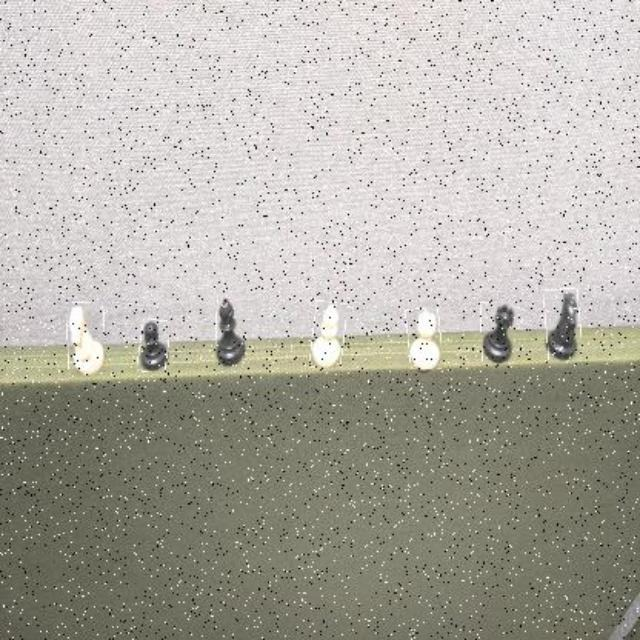black-bishop: (216, 298, 245, 370)
black-knight: (545, 289, 581, 361)
black-pawn: (139, 320, 169, 372)
black-rook: (481, 302, 517, 363)
white-bishop: (312, 301, 345, 368)
white-knight: (67, 302, 105, 377)
white-rook: (407, 308, 441, 370)
